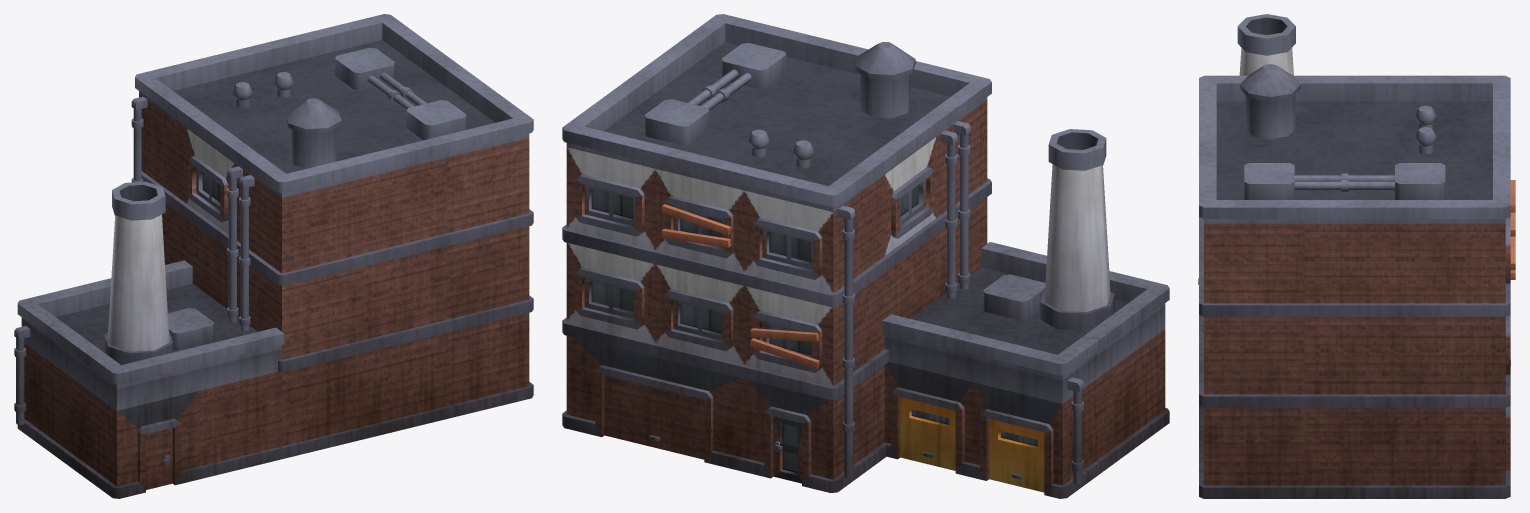
The model's file is building-b-brown.glb.
3 renders of one model, left to right at view 1: azimuth 30°, elevation 25°; view 2: azimuth 150°, elevation 25°; view 3: azimuth 270°, elevation 25°, orthographic. The views are drawn at different scales.
Parts seen in each view (by area): view 1: building-b; view 2: building-b; view 3: building-b.
Part boxes in pixels (<box>): building-b: <box>14,14,533,498</box>; building-b: <box>562,14,1169,498</box>; building-b: <box>1198,14,1515,498</box>.
Bounding box in the file's own units: 2.08 × 1.47 × 1.26.
1 material, 1 textured.
